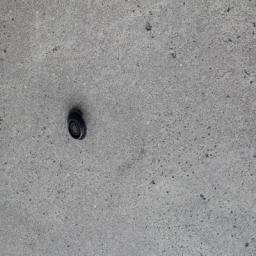FOD: (62, 103, 92, 143)
